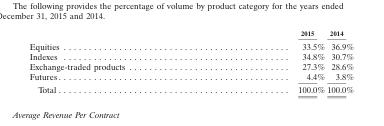table: (28, 28, 353, 94)
table column: (28, 28, 210, 94), (210, 28, 325, 94), (325, 28, 353, 94)
table column header: (28, 28, 353, 38)
table row: (28, 38, 353, 50), (28, 70, 353, 82), (28, 82, 353, 94), (28, 28, 353, 38), (28, 50, 353, 60), (28, 60, 353, 70)
